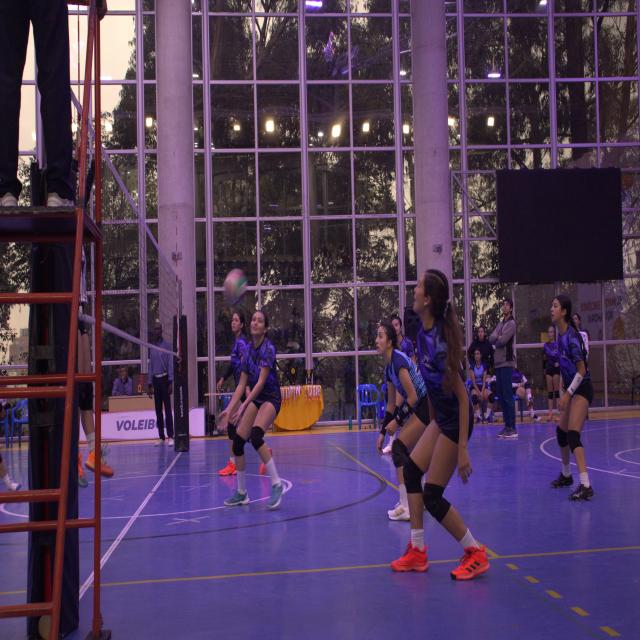volleyball: (222, 269, 248, 306)
